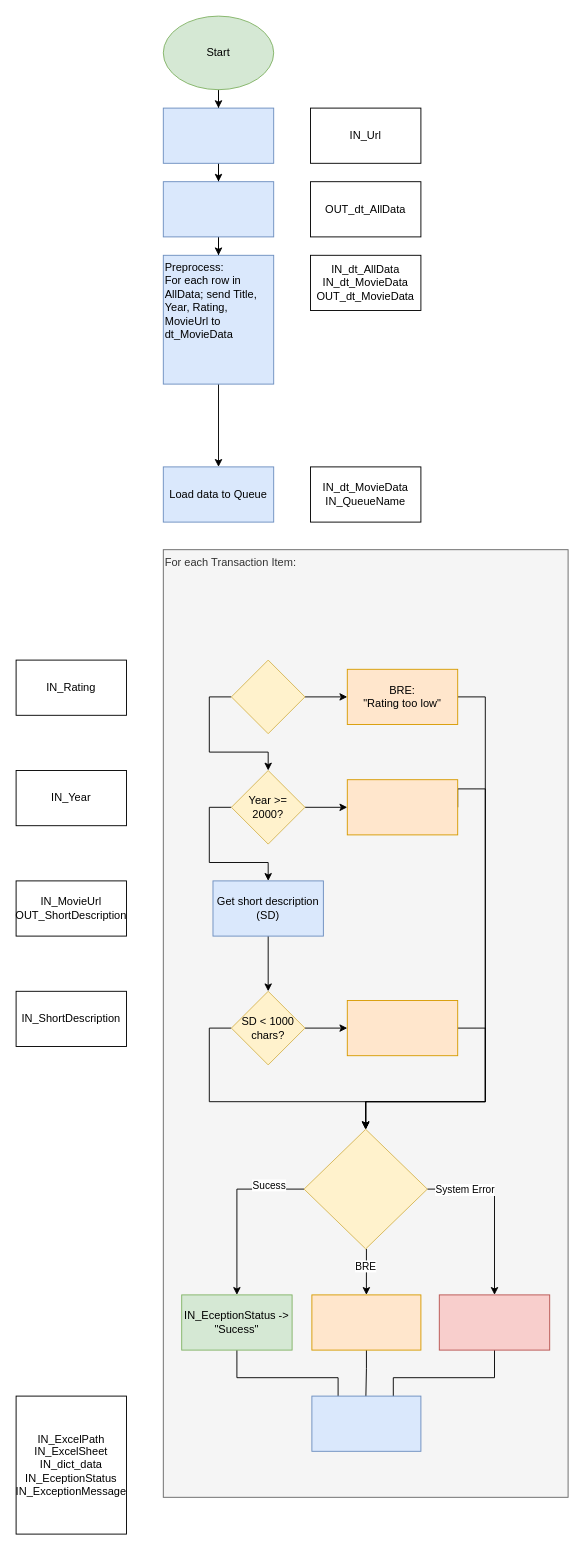
Image size: 584x1550. Some labels were removed from this diagram. The shapes that lost their labels are listed below. From the top down, each one's centre as x and y in pixels, then its label:
the point at 218,135: Open Chrome and navigate to Top250
the point at 218,209: Get data
the point at 267,696: Rating > 8,5?
the point at 402,807: BRE: "Year too low"
the point at 402,1028: BRE: "Short Description too long"
the point at 365,1188: State
the point at 366,1322: ExceptionMessage -> BRE IN_EceptionStatus -> "BRE"
the point at 494,1322: ExceptionMessage -> Error IN_EceptionStatus-> "Failed"
the point at 366,1423: Store data to Excel
